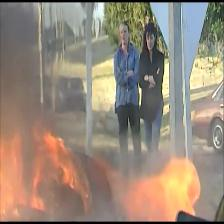fire: (0, 117, 99, 220), (122, 149, 213, 220)
smoke: (0, 2, 110, 130)
